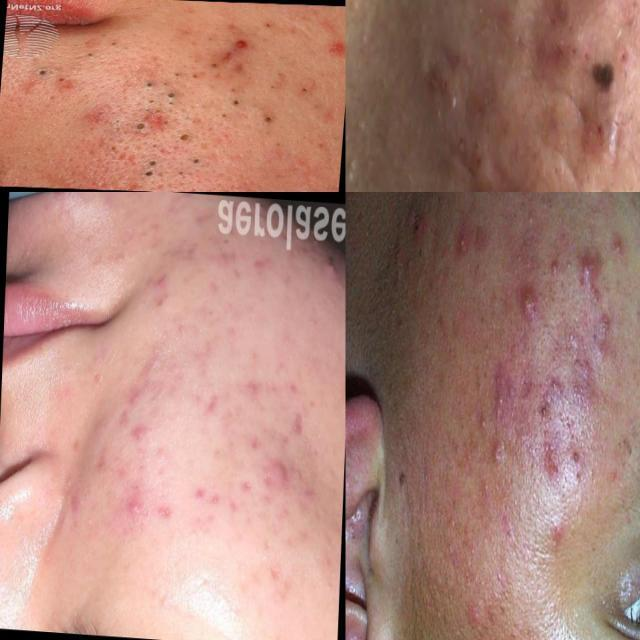Pimples: (412, 32, 504, 178), (538, 16, 593, 88), (189, 464, 253, 524), (117, 479, 157, 536), (590, 306, 622, 376), (278, 400, 322, 448), (488, 358, 513, 434), (258, 551, 298, 597), (261, 442, 297, 490), (572, 350, 597, 408), (238, 362, 266, 410), (518, 277, 544, 327), (448, 222, 476, 268), (320, 240, 346, 288), (140, 74, 182, 102), (540, 427, 558, 484), (280, 368, 314, 397), (580, 242, 600, 290), (609, 218, 627, 268), (490, 430, 510, 472), (198, 384, 218, 425), (168, 68, 216, 81), (324, 36, 346, 64), (142, 158, 168, 180), (228, 34, 256, 54), (186, 151, 218, 168), (79, 512, 95, 543), (252, 107, 276, 125), (122, 117, 152, 131), (254, 18, 282, 31), (30, 66, 59, 78), (228, 92, 244, 111), (260, 82, 284, 94), (58, 73, 74, 90), (176, 127, 194, 141), (296, 81, 314, 95), (109, 36, 123, 49), (89, 48, 102, 61)
